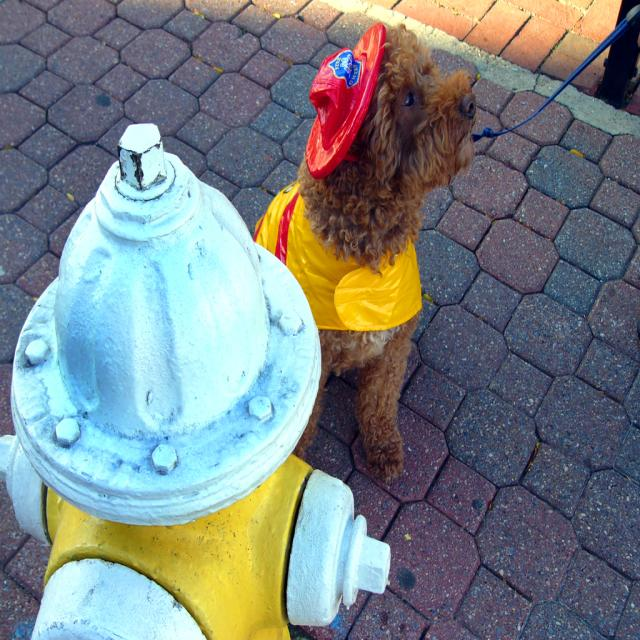fire_hydrant: (0, 114, 391, 640)
